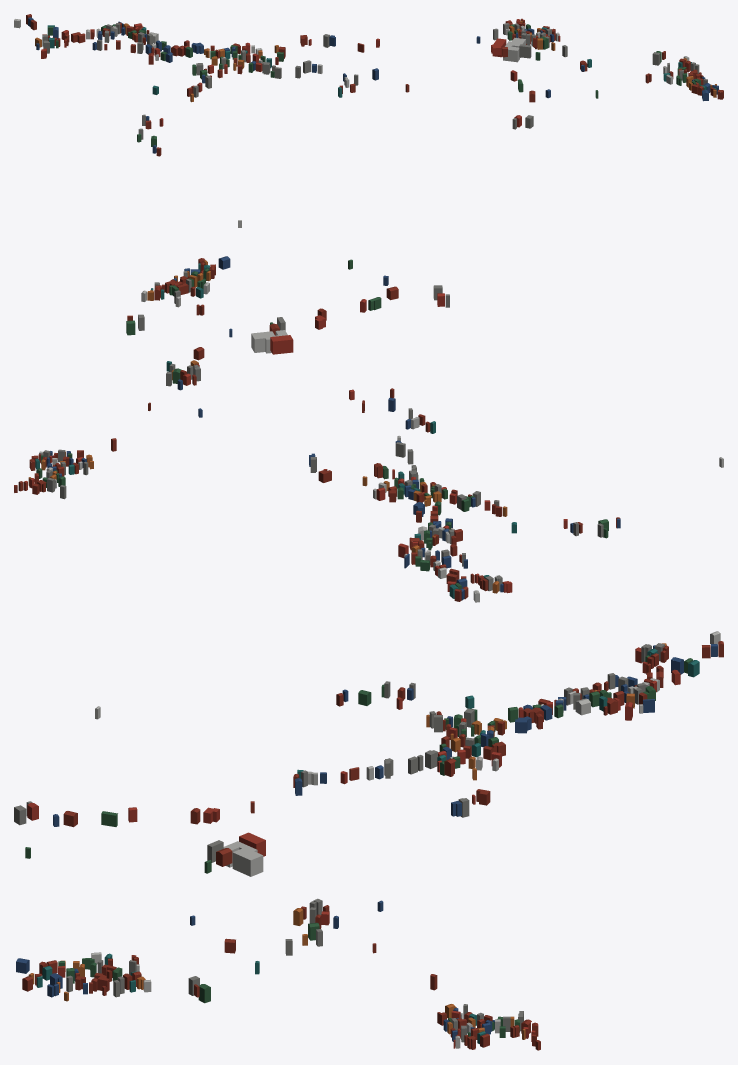
Rendered from near-15-27363-14866.c7aae75f.glb.
3 views of the same model, one above another, from view 1: azimuth 30°, elevation 25°; view 2: azimuth 150°, elevation 25°; view 3: azimuth 270°, elevation 25° (orthographic). The views are drawn at different scales.
Size of the model in its own units: 1184 by 235 by 1049.
